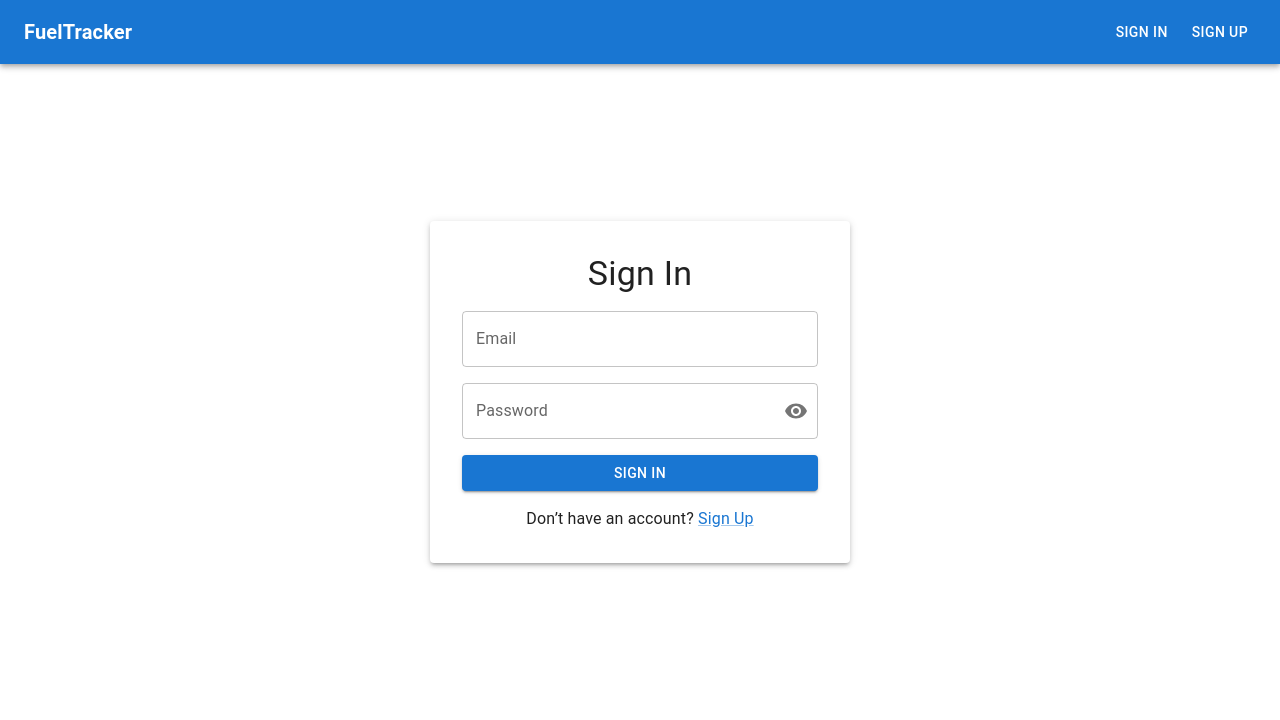
Login snackbar › shows "Signed in successfully." snackbar on successful login
Type "john@example.com" into the field labelled "Email" at [640, 339], box x1=462 y1=311 x2=818 y2=367
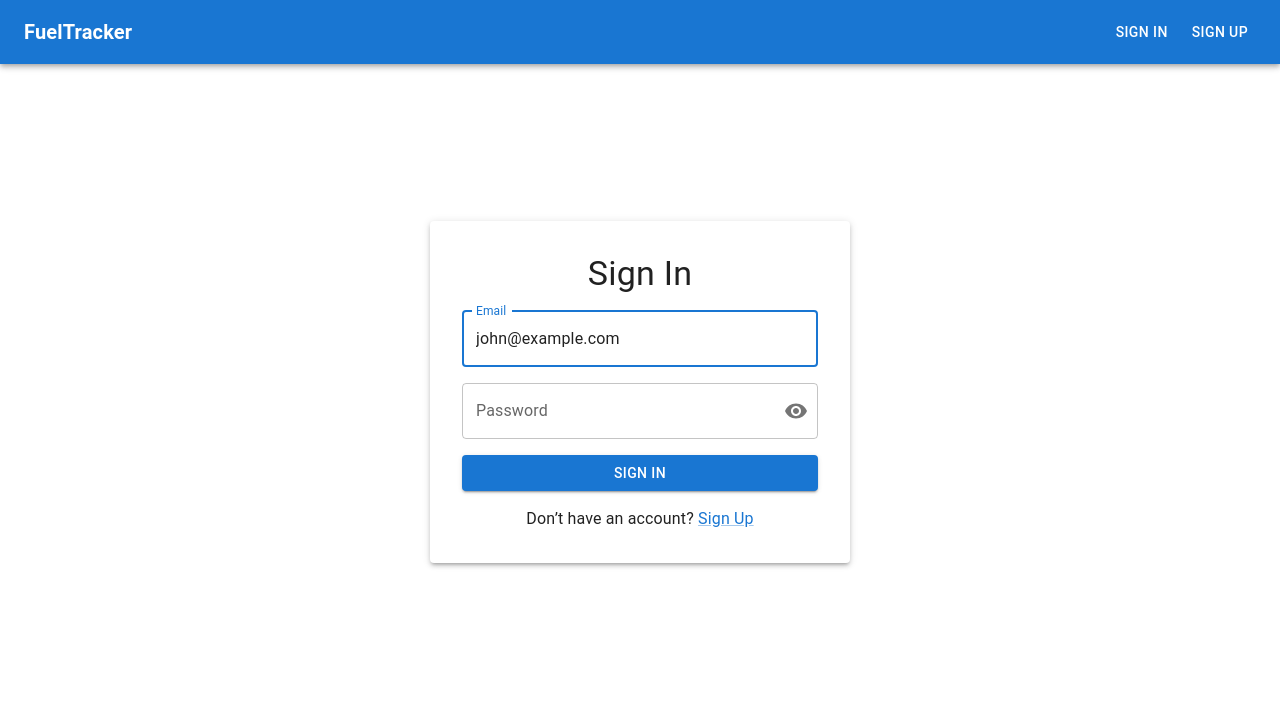
Type "Passw0rd1" into the password field labelled "Password" at [615, 411], box x1=462 y1=383 x2=768 y2=439
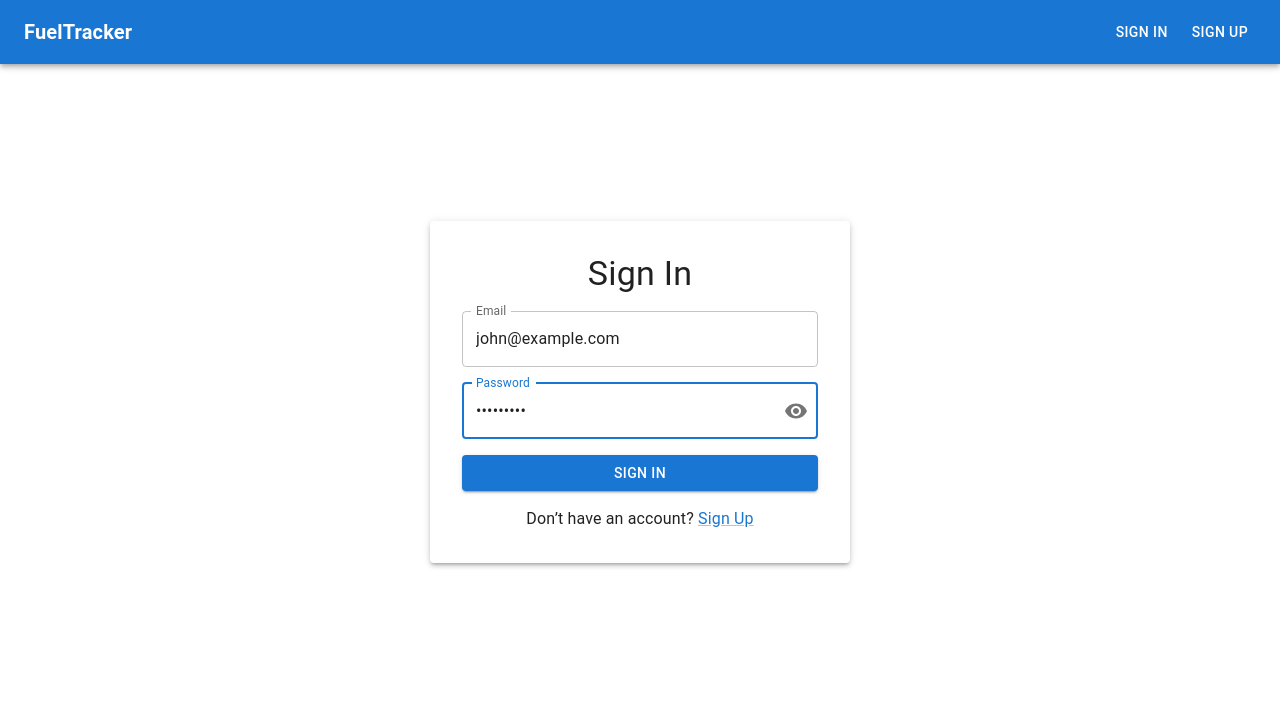
Click the button "Sign In" at [640, 473], box x1=462 y1=455 x2=818 y2=491
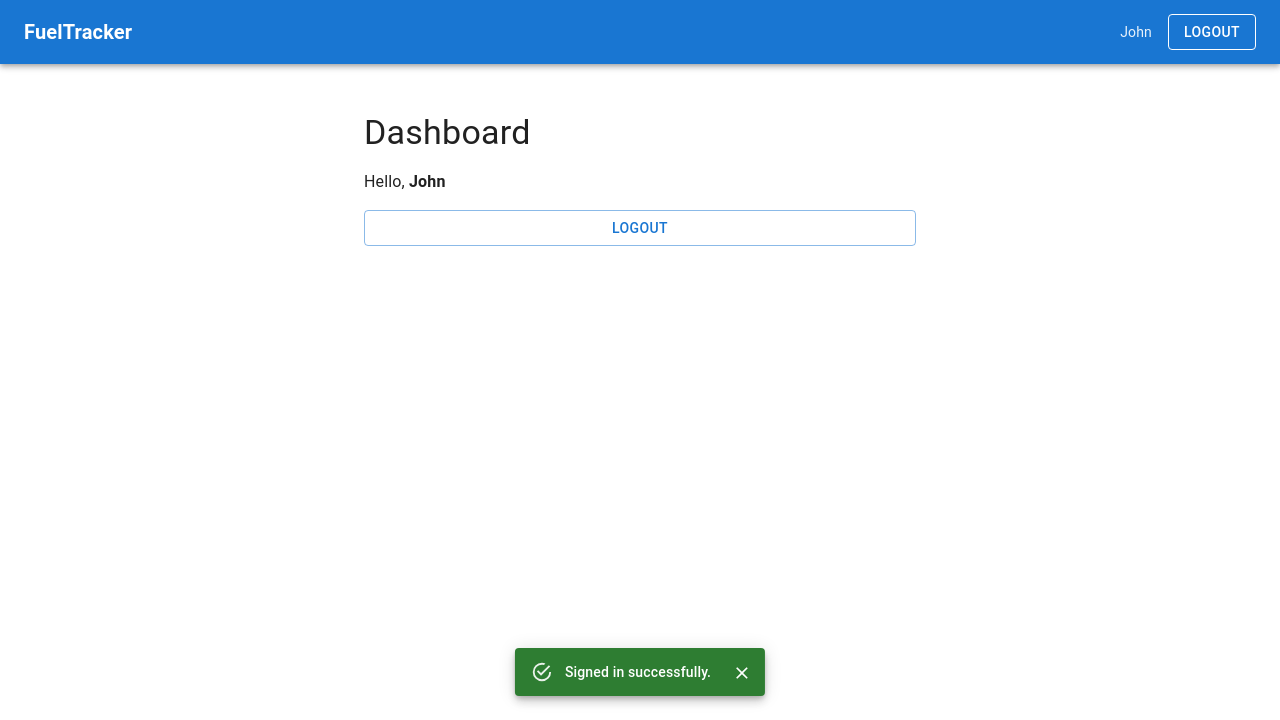
Result: the text "Signed in successfully." is shown at x1=565 y1=664 x2=711 y2=680
Result: the heading "Dashboard" is shown at x1=364 y1=112 x2=531 y2=152
